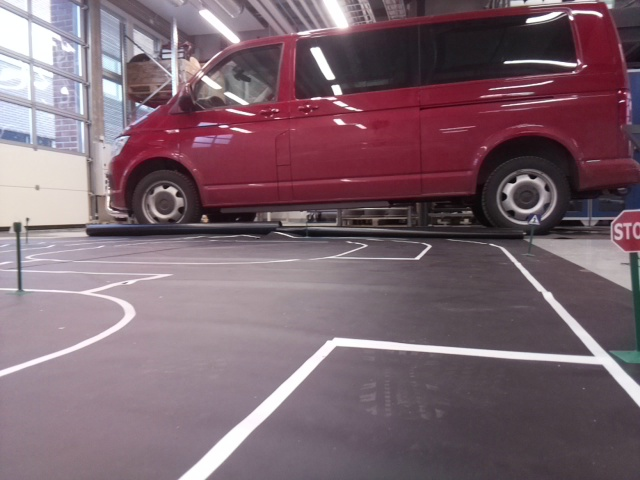Stop: (607, 209, 639, 249)
